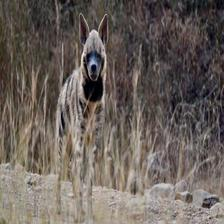hyena: (37, 7, 132, 224)
